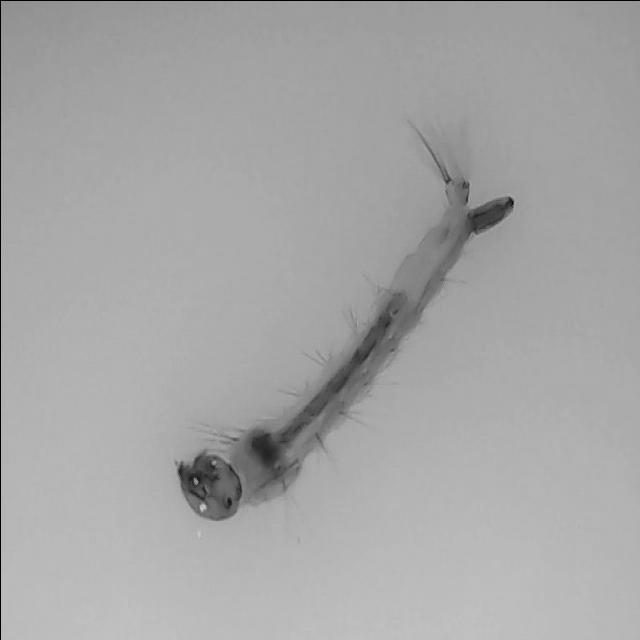larvas: (180, 167, 515, 518)
